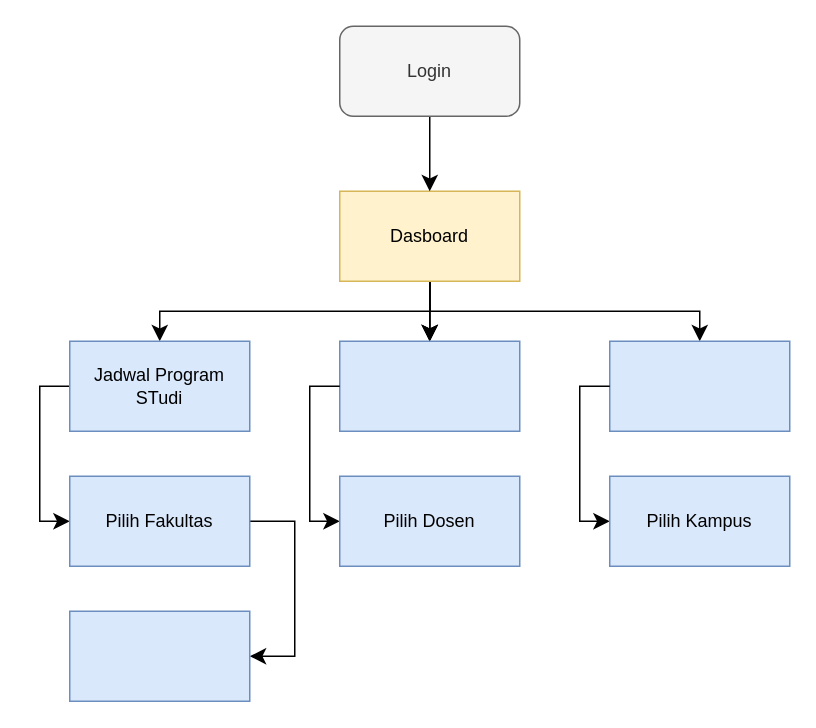
This 816x728 diagram has some shape labels left out. The centre of each missing label's shape, as x and y in pixels:
"Jadwal Dosen" belongs at pixel 429 385.
"Jadwal Ruang" belongs at pixel 699 385.
"Pilih Program Studi" belongs at pixel 159 655.
